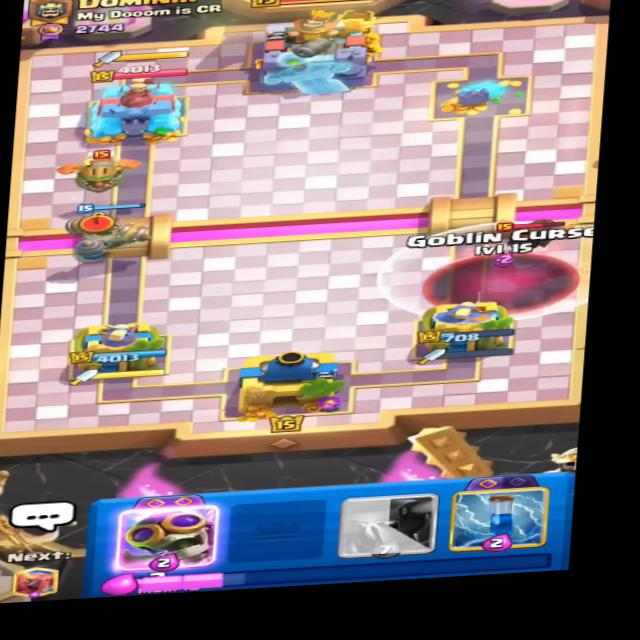inferno-dragon: (48, 144, 142, 198)
lava-hound: (477, 209, 581, 256)
